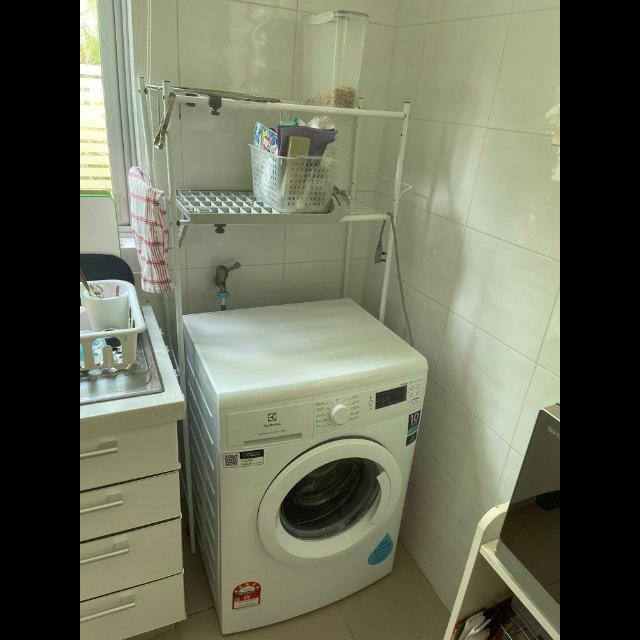Washing-Machine: (182, 303, 426, 609)
